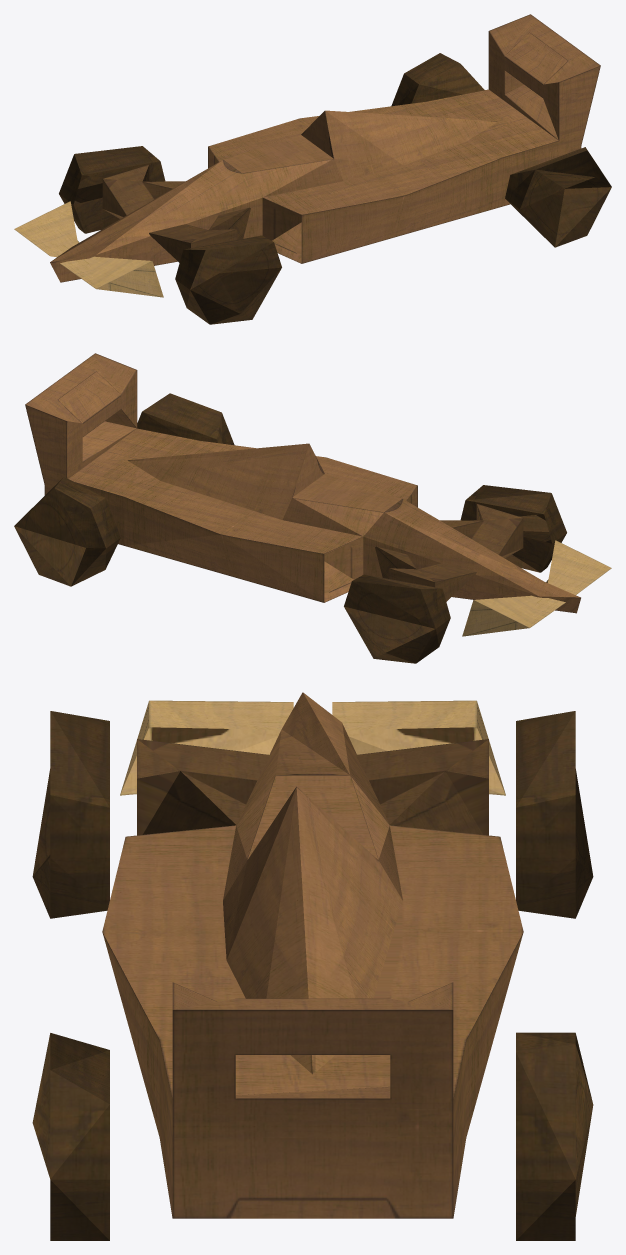
The model's file is Wooden car toy.fbx.
3 renders of one model, top to bottom at view 1: azimuth 30°, elevation 25°; view 2: azimuth 150°, elevation 25°; view 3: azimuth 270°, elevation 25°, orthographic. The views are drawn at different scales.
Parts seen in each view (by area): view 1: Wooden_car_toy; view 2: Wooden_car_toy; view 3: Wooden_car_toy.
Part boxes in pixels (x1,y1,x2,y2): Wooden_car_toy: (14, 14, 611, 324); Wooden_car_toy: (14, 353, 611, 663); Wooden_car_toy: (32, 692, 593, 1240).
Size of the model in its own units: 29.47 by 7.66 by 13.8.
Materials: 1 (1 with a texture image).
